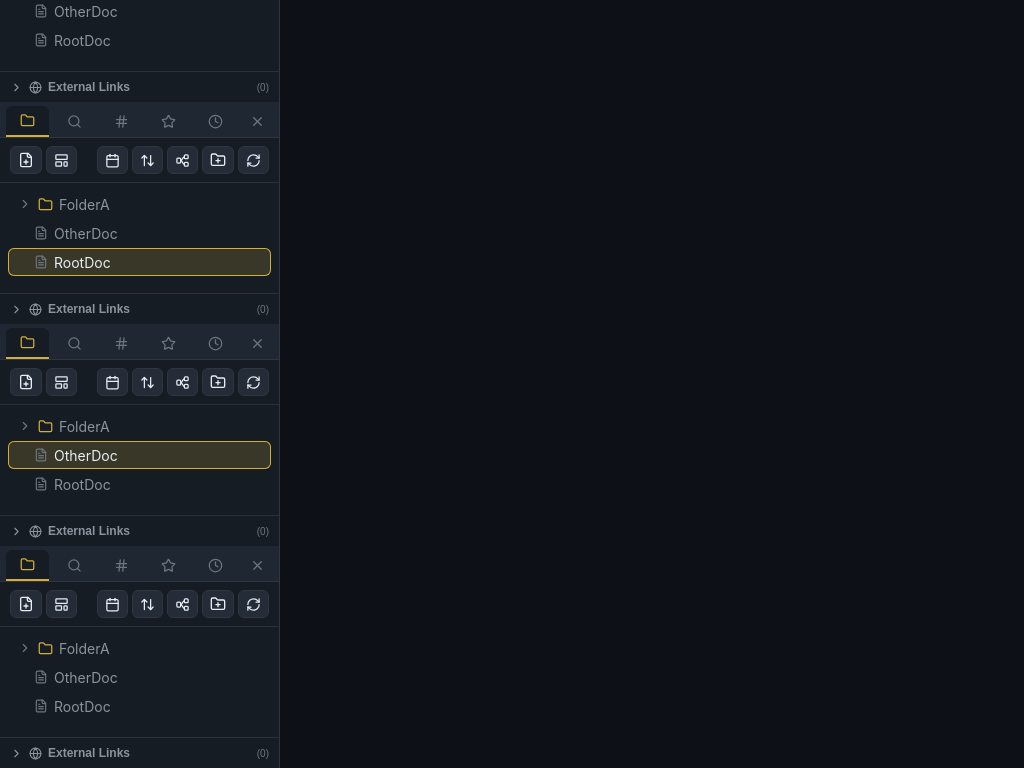
Test case: FileSidebar Multi-Select & Selection Logic › 4. Shift + click performs range selection without changing the active note
This screenshot has width=1024, height=768.
Click the element with class "tree-label" at coordinates (72, 706), box [34, 698, 111, 714]
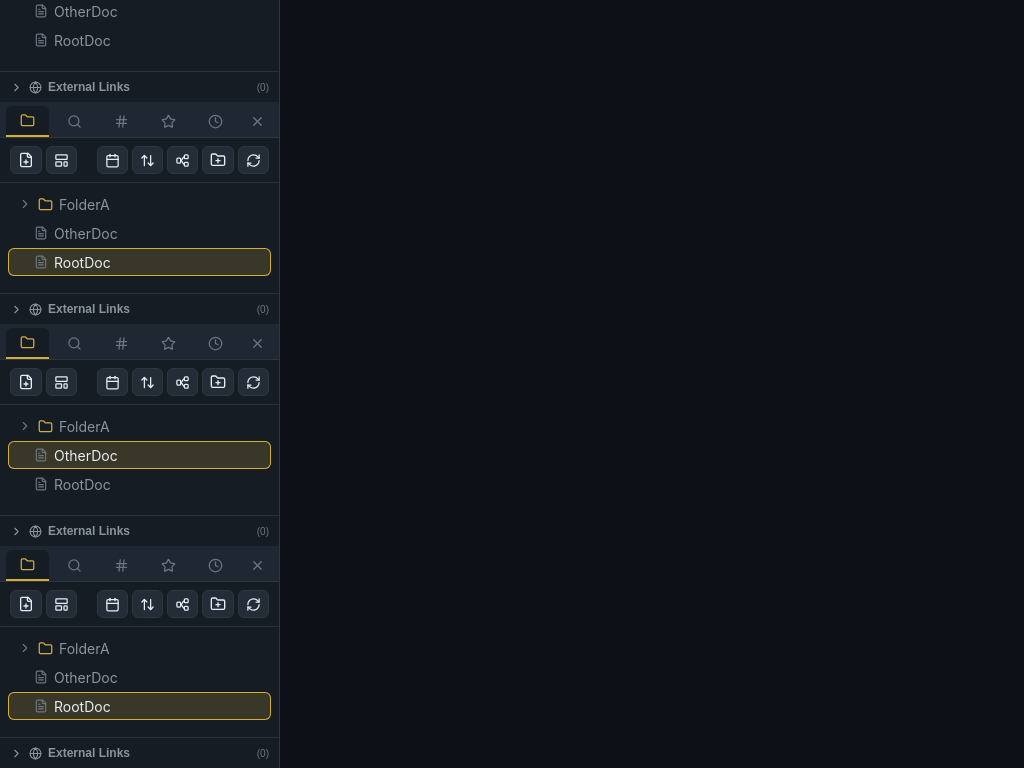
Click the element with class "tree-label" at coordinates (76, 677), box [34, 668, 118, 686]
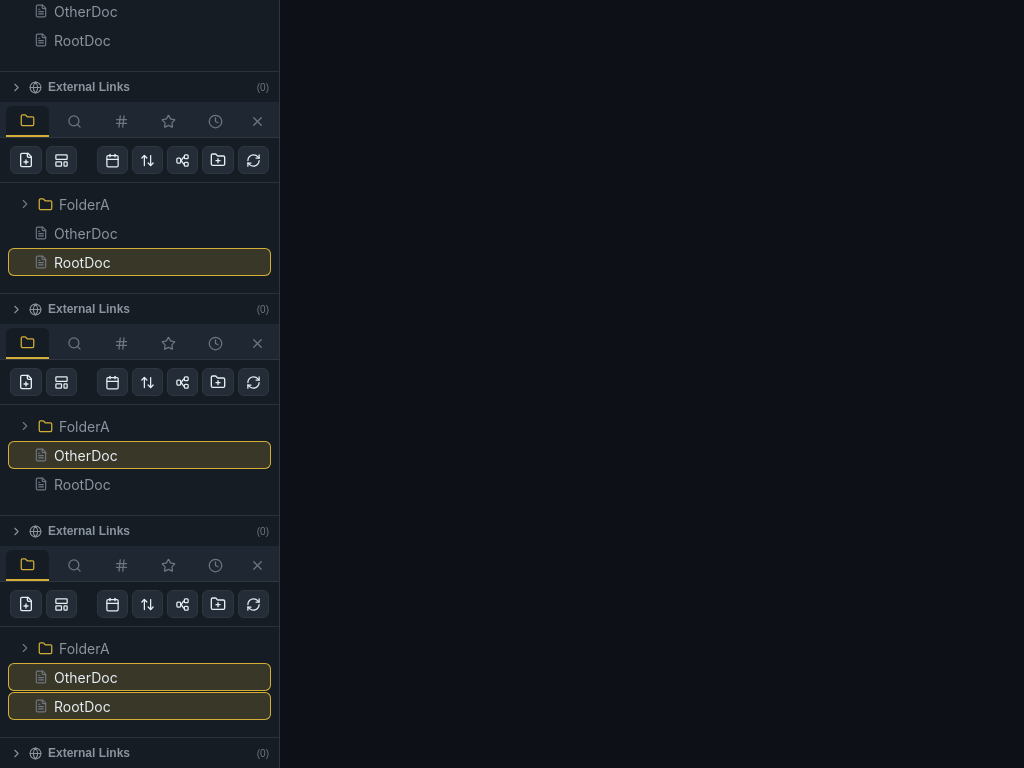
Expected: the element with class "tree-label" has class "is-selected", [8, 692, 271, 720]
